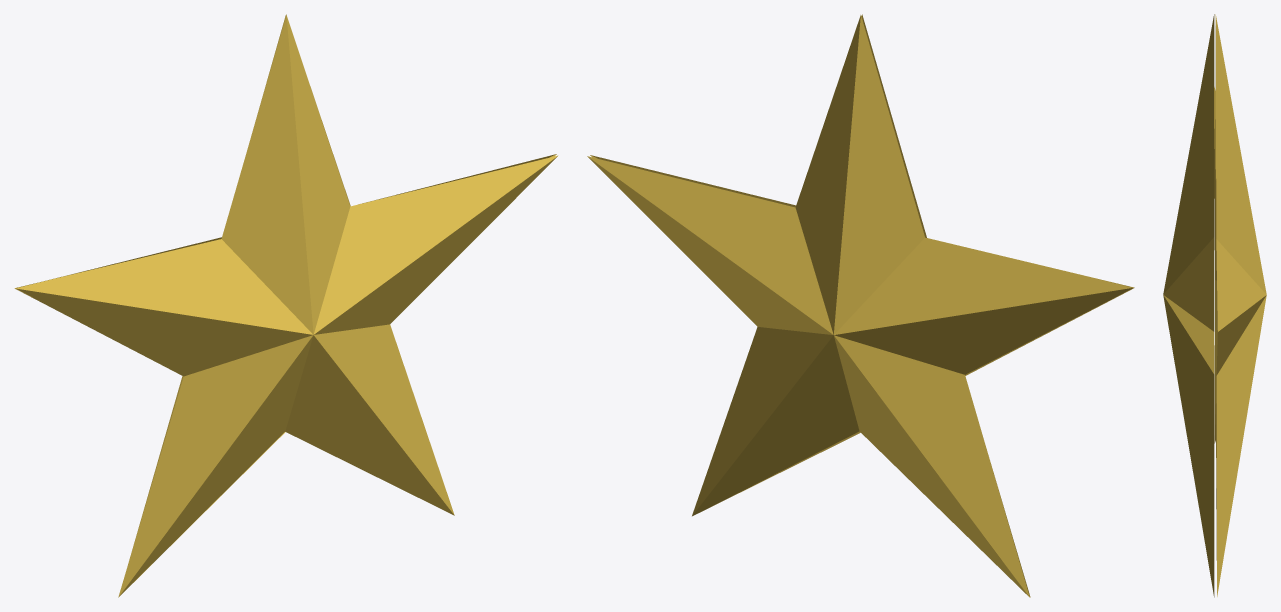
Rendered from star.gltf.
3 views of the same model, side by side, from view 1: azimuth 30°, elevation 25°; view 2: azimuth 150°, elevation 25°; view 3: azimuth 270°, elevation 25° (orthographic). The views are drawn at different scales.
Parts seen in each view (by area): view 1: Circle.001, Circle; view 2: Circle, Circle.001; view 3: Circle, Circle.001.
Boxes of the visible parts, box(x1,y1,x2,y2) form: Circle.001: box(14, 15, 558, 597); Circle: box(15, 14, 556, 582); Circle: box(587, 15, 1133, 597); Circle.001: box(590, 14, 1134, 597); Circle: box(1214, 14, 1266, 596); Circle.001: box(1163, 14, 1214, 597).
Size of the model in its own units: 3.23 by 3.07 by 0.567.
